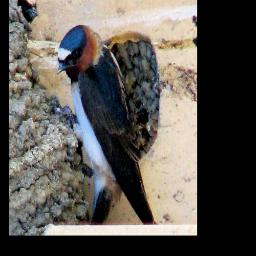Swallow: (57, 23, 161, 222)
